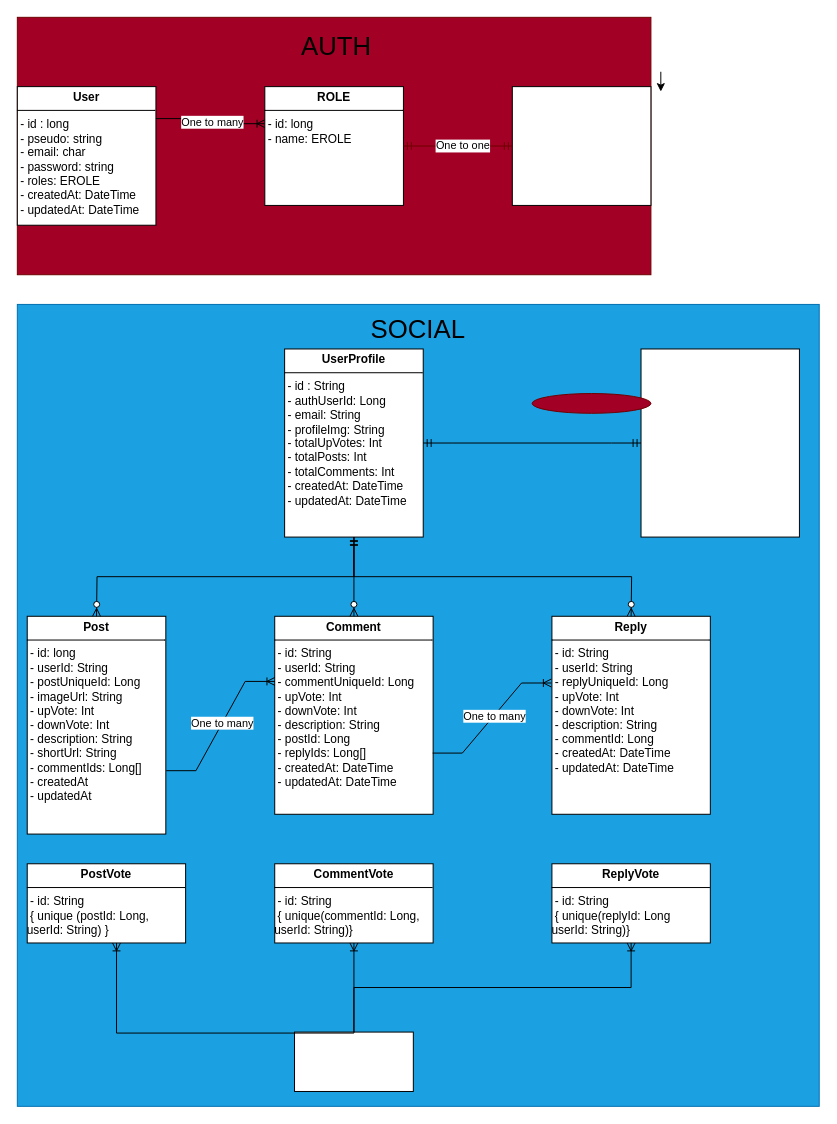
Some shapes in this 837 by 1124 pixel diagram are drawn without their labels. The box of each missing label's shape, as (x1, y1, x2, y2) in pixels:
Contain userId: (531, 393, 651, 413)
EROLE << enum >> - ROLE_USER - ROLE_MODERATOR - ROLE_ADMIN: (511, 86, 651, 205)
ProfileImage - Id: String - minioObjectName: String - bucketName: String: (640, 348, 799, 537)
UserProfile {unique: userId}: (294, 1031, 413, 1091)
